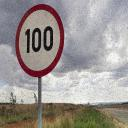speed_limit_100: (14, 4, 64, 78)
